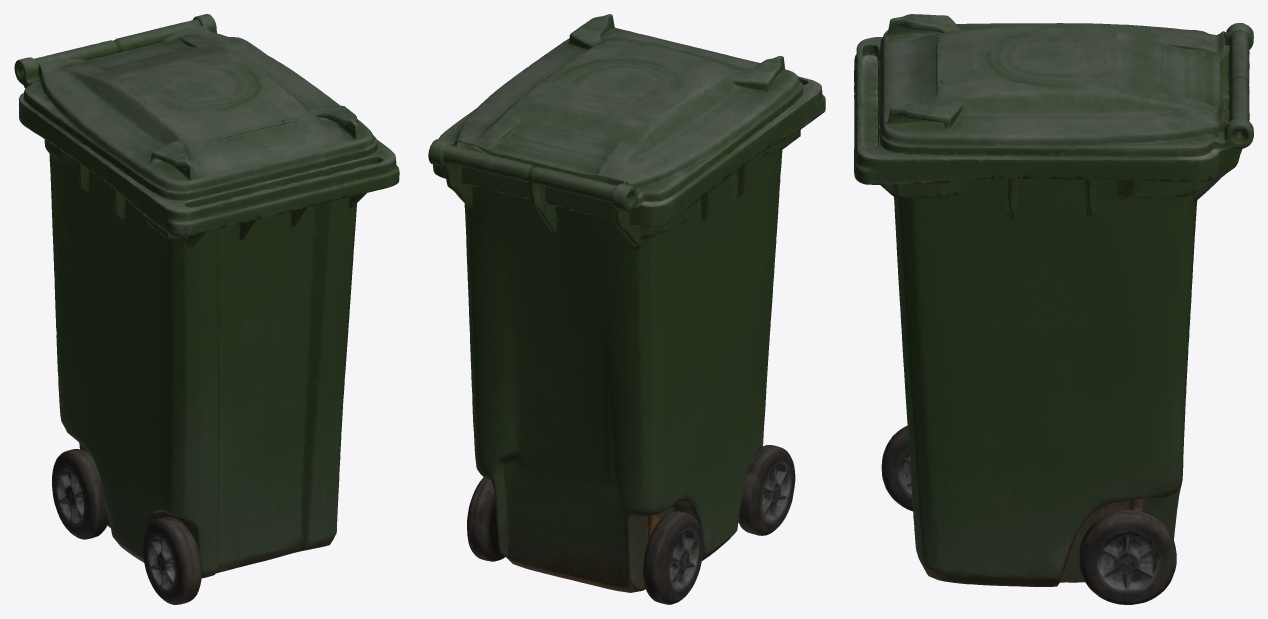
3 views of the same model, side by side, from view 1: azimuth 30°, elevation 25°; view 2: azimuth 150°, elevation 25°; view 3: azimuth 270°, elevation 25° (orthographic). The views are drawn at different scales.
Visible parts, largest first — view 1: geometry_0; view 2: geometry_0; view 3: geometry_0.
Boxes of the visible parts, <box> form: geometry_0: <box>14,14,399,604</box>; geometry_0: <box>428,14,825,604</box>; geometry_0: <box>854,14,1253,604</box>.
Size of the model in its own units: 0.5281 by 1 by 0.7252.
1 material, 1 textured.
